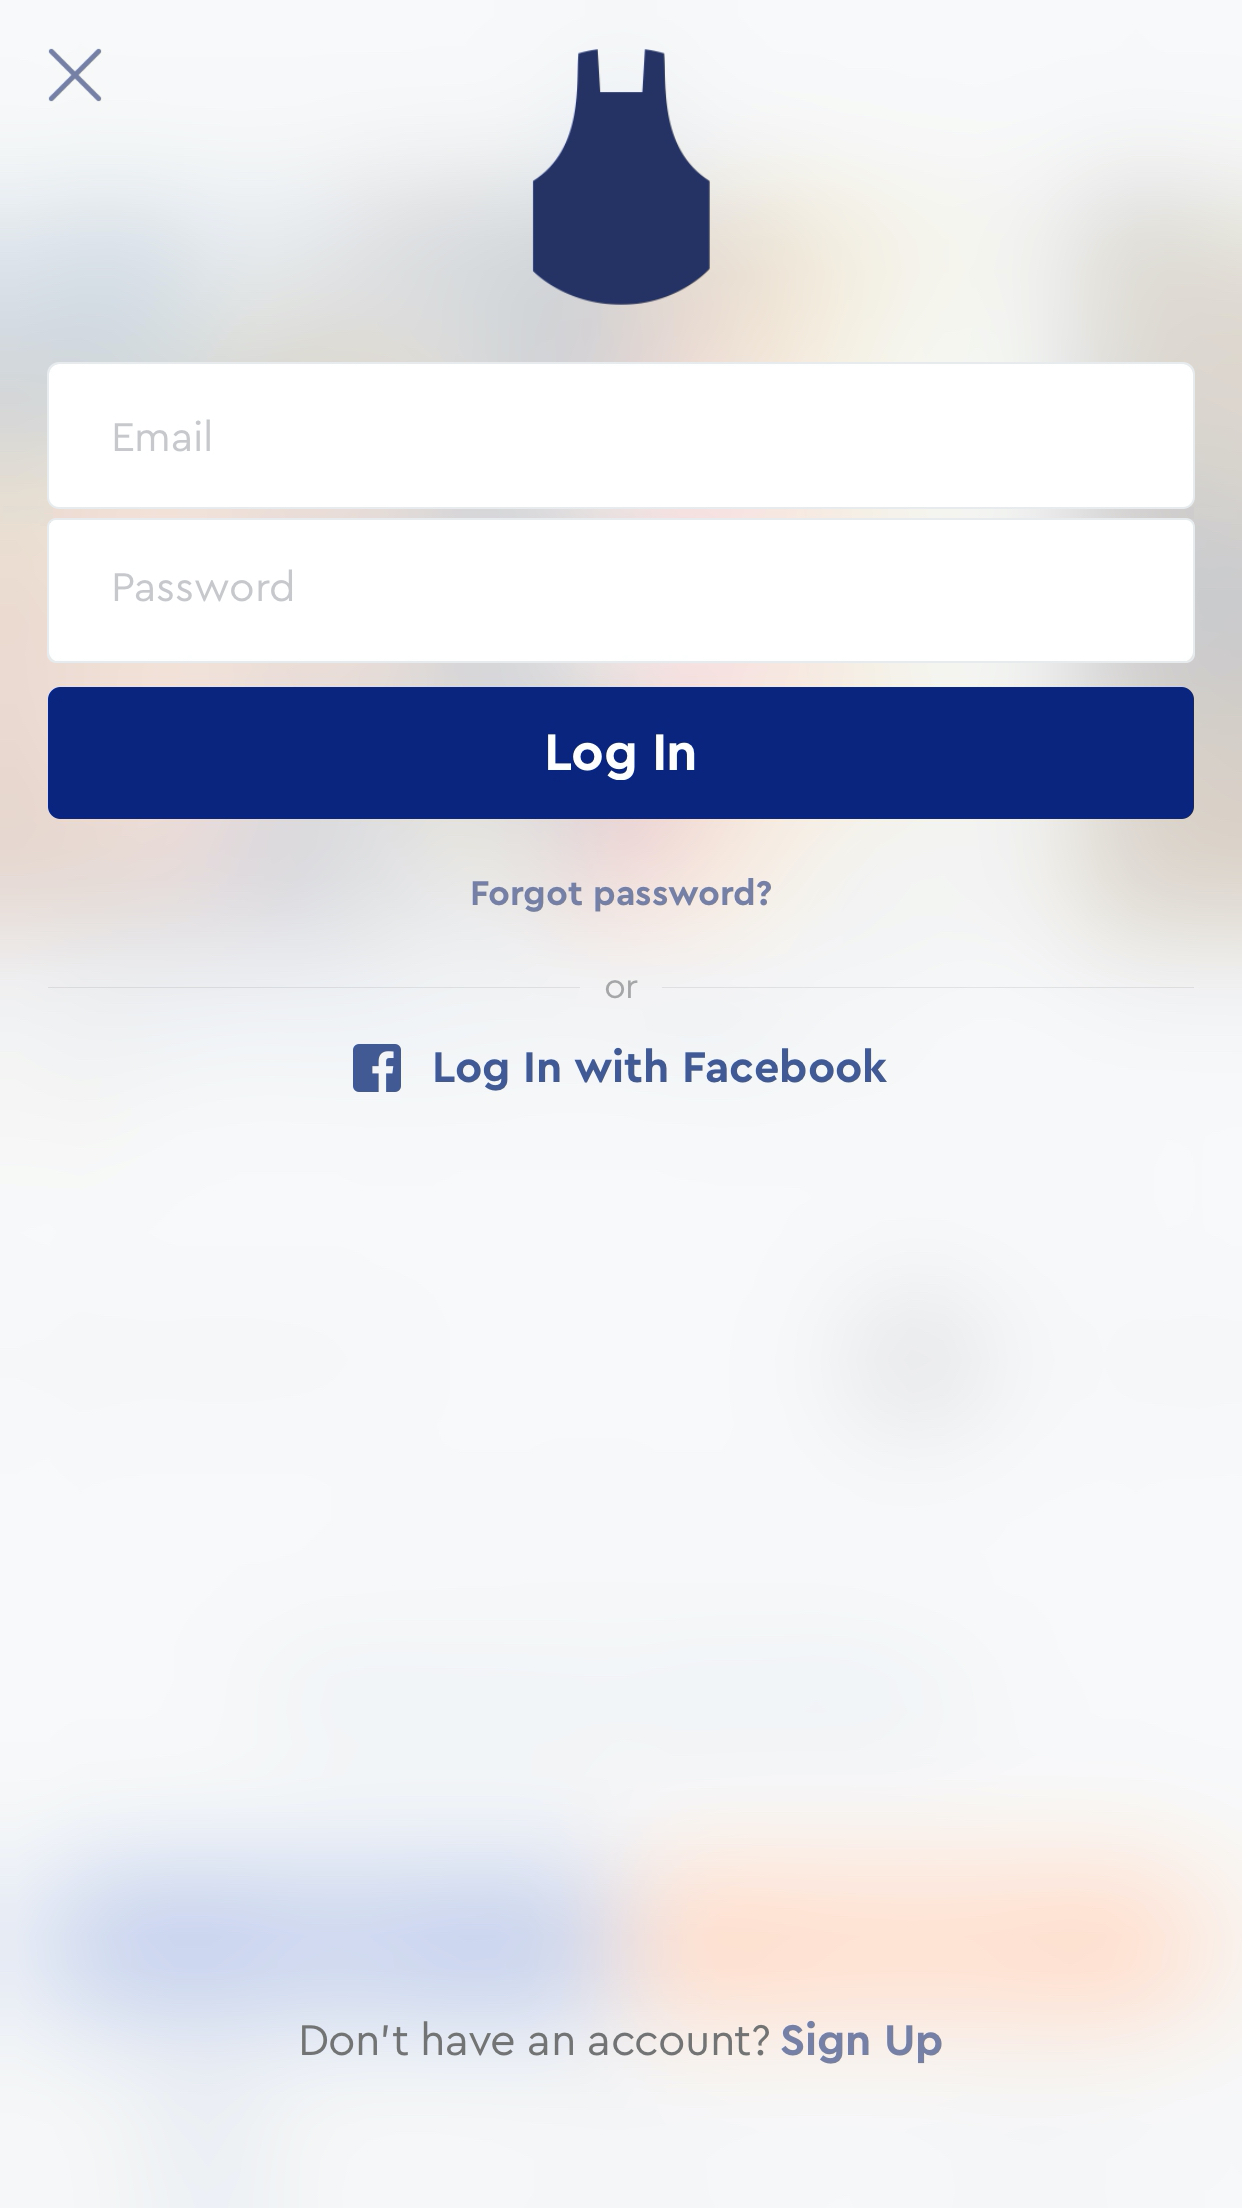EditText: (49, 362, 1195, 510), (49, 519, 1195, 664)
Icon: (49, 49, 103, 103), (353, 1043, 402, 1093)
Image: (532, 50, 711, 306)
Text: (302, 2021, 943, 2065), (435, 1048, 889, 1092), (472, 877, 772, 913), (115, 569, 293, 604), (114, 420, 211, 453), (605, 980, 638, 999)
TextButton: (49, 688, 1193, 820)
